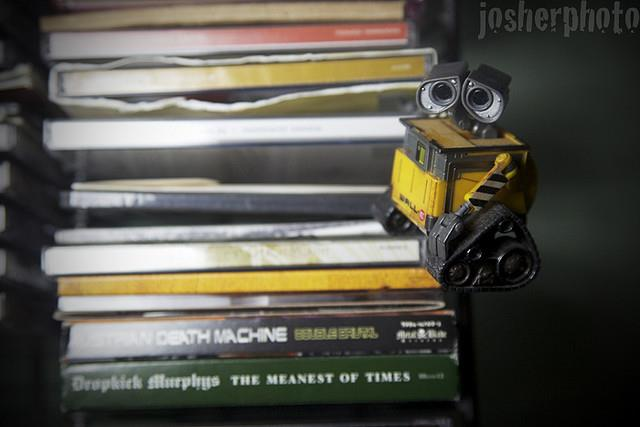walle: (374, 60, 544, 291)
